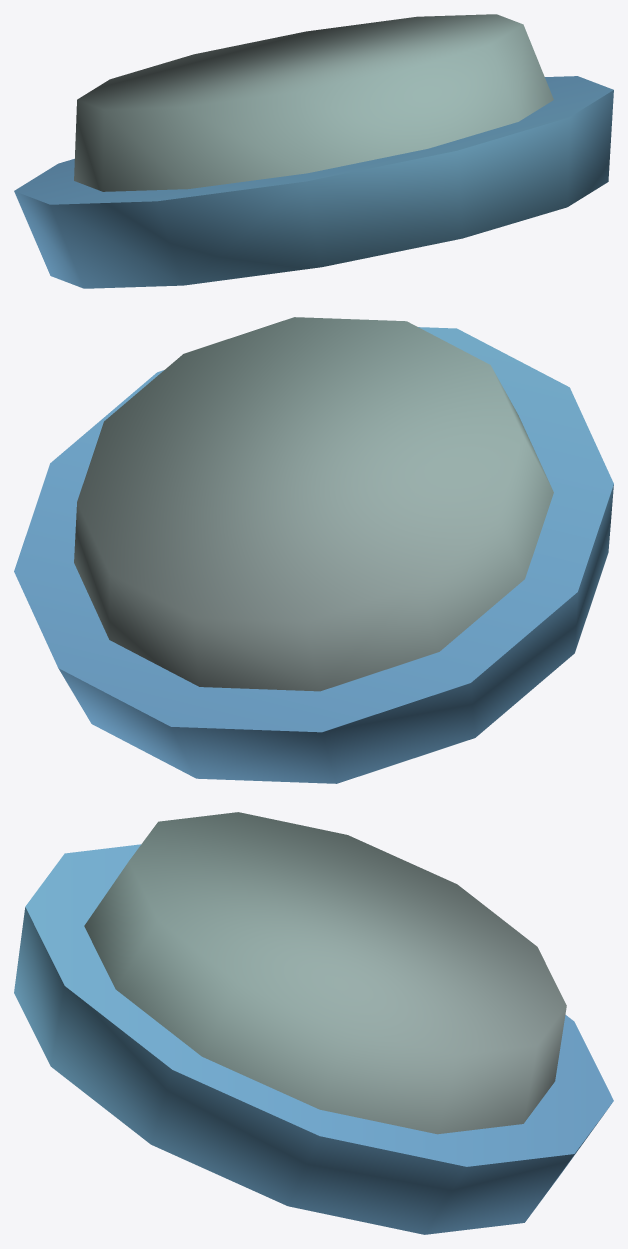
Rendered from armor_2.glb.
3 renders of one model, top to bottom at view 1: azimuth 30°, elevation 25°; view 2: azimuth 150°, elevation 25°; view 3: azimuth 270°, elevation 25°, orthographic. The views are drawn at different scales.
Visible parts, largest first — view 1: armor_2; view 2: armor_2; view 3: armor_2.
Boxes of the visible parts, left/top/right/bottom form: armor_2: left=14, top=14, right=613, bottom=288; armor_2: left=14, top=317, right=613, bottom=783; armor_2: left=14, top=812, right=613, bottom=1234.
Size of the model in its own units: 20 by 11 by 19.15.
